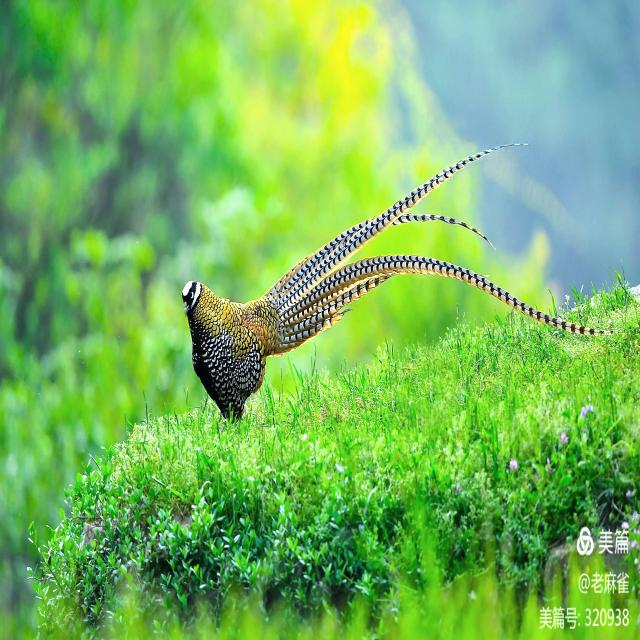Reeves-s Pheasant: (262, 143, 612, 357)
